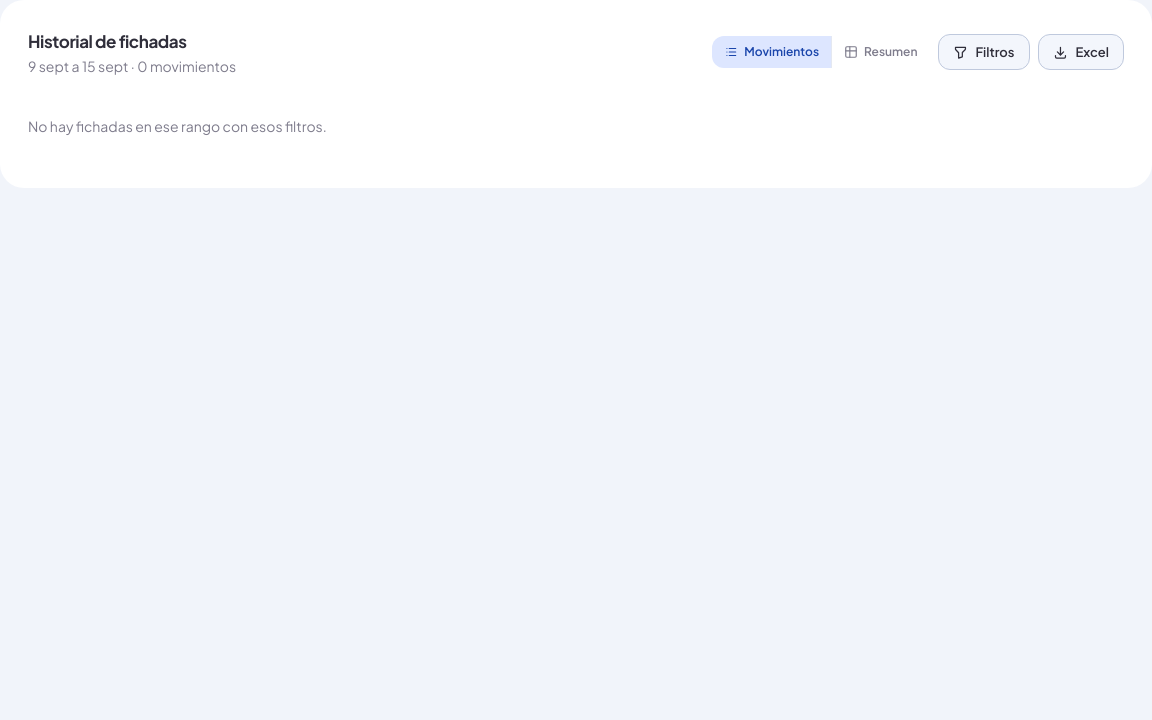
HistorialFichadas: resumen paginado › muestra una página de filas, no las veinte
Click the button "Resumen" at (880, 52), box x1=831 y1=36 x2=930 y2=68
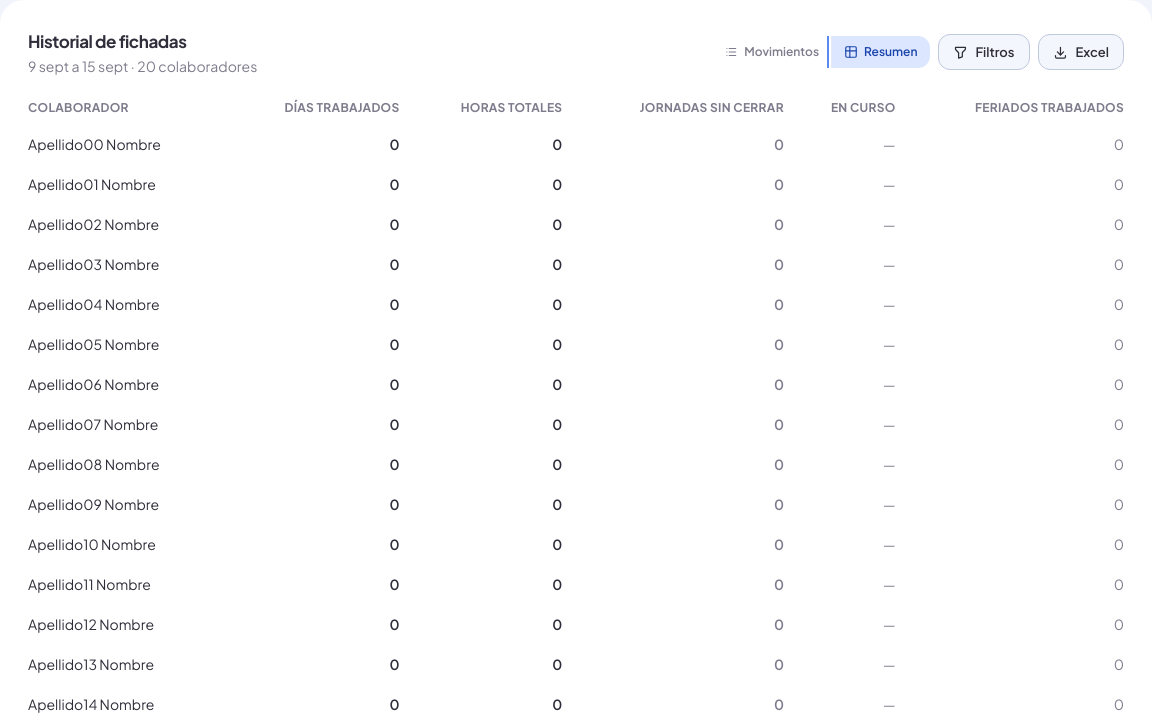
Check: the text "Apellido00" is shown, box x1=28 y1=135 x2=104 y2=153
Check: the text "Apellido14" is shown, box x1=28 y1=695 x2=97 y2=713
